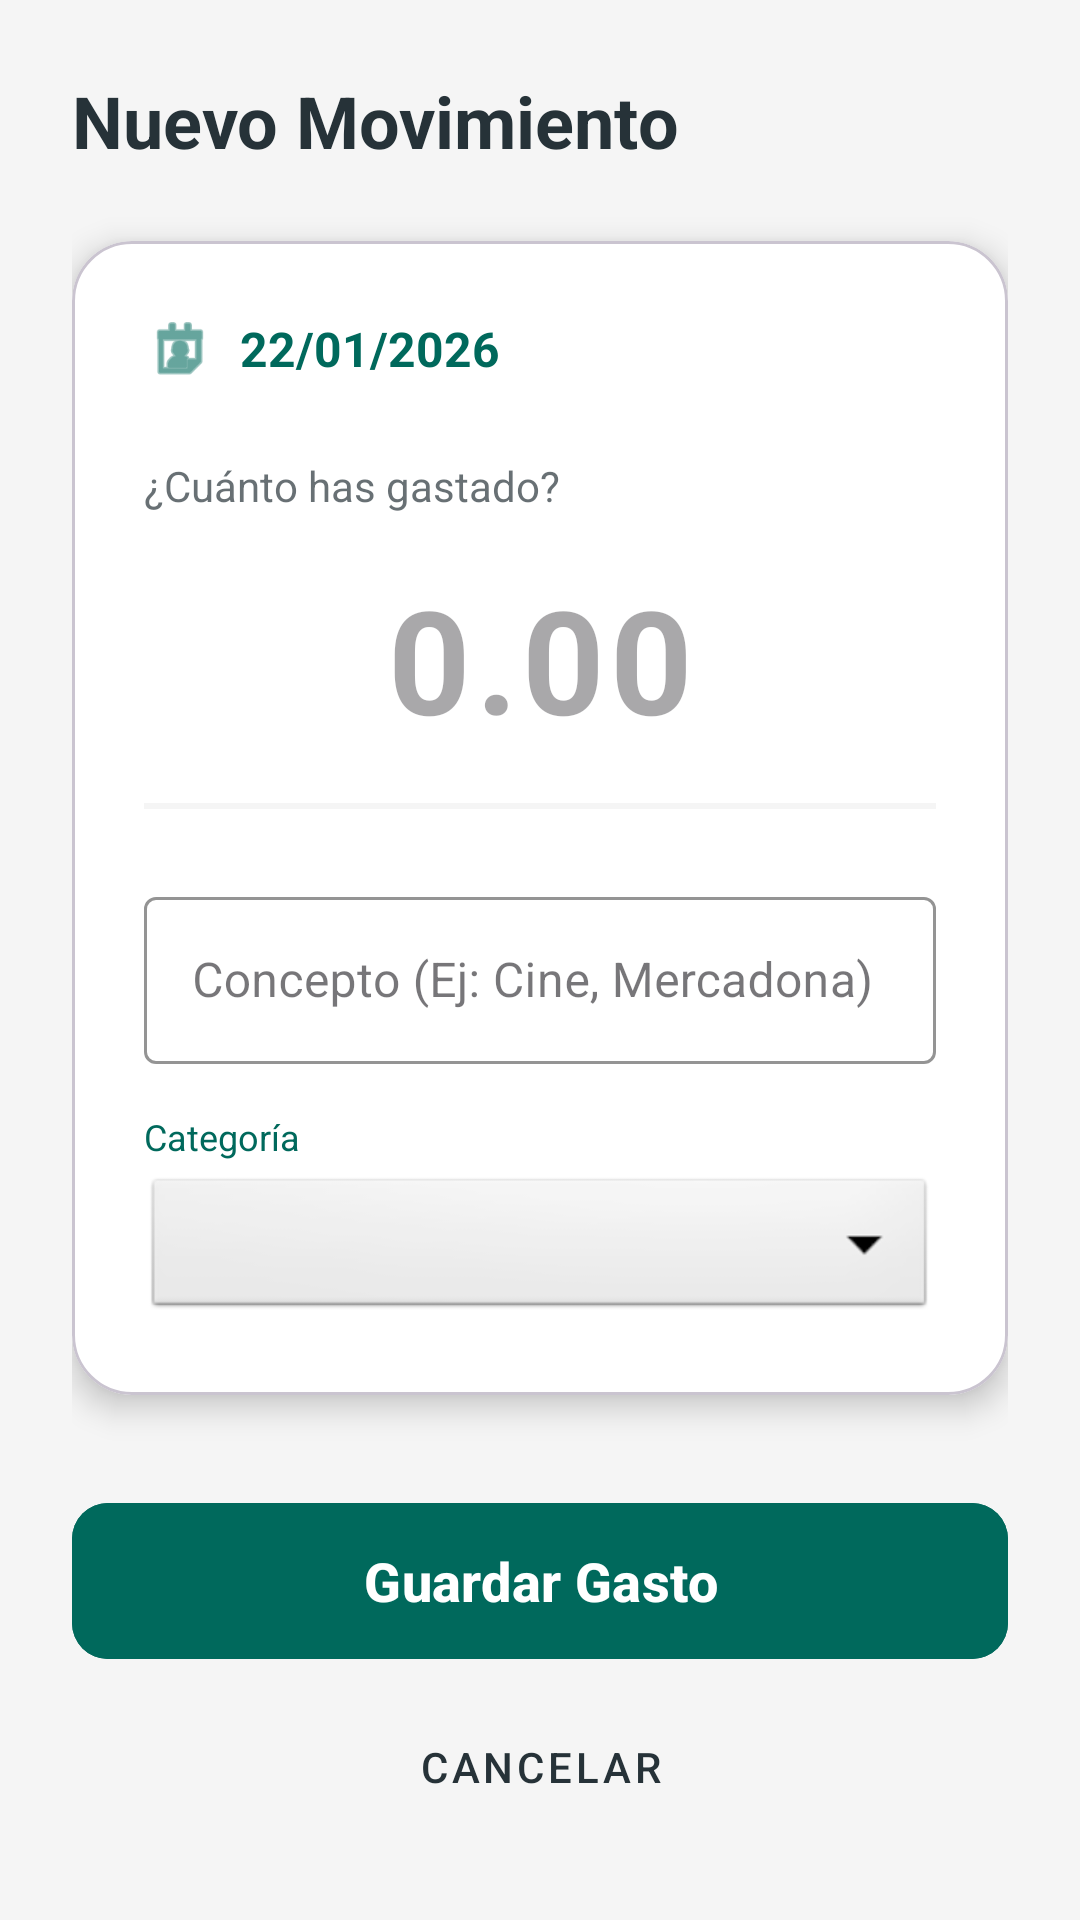

Icons on this 1080x1920 Android screen, each with its box as (x1, y1, x2, y2):
calendar: (157, 322, 203, 375)
